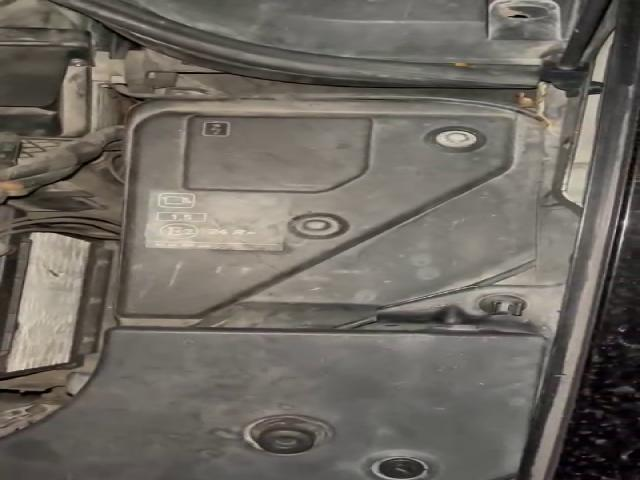fuse_box: (140, 110, 535, 333)
